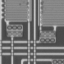dust: (18, 2, 22, 6)
